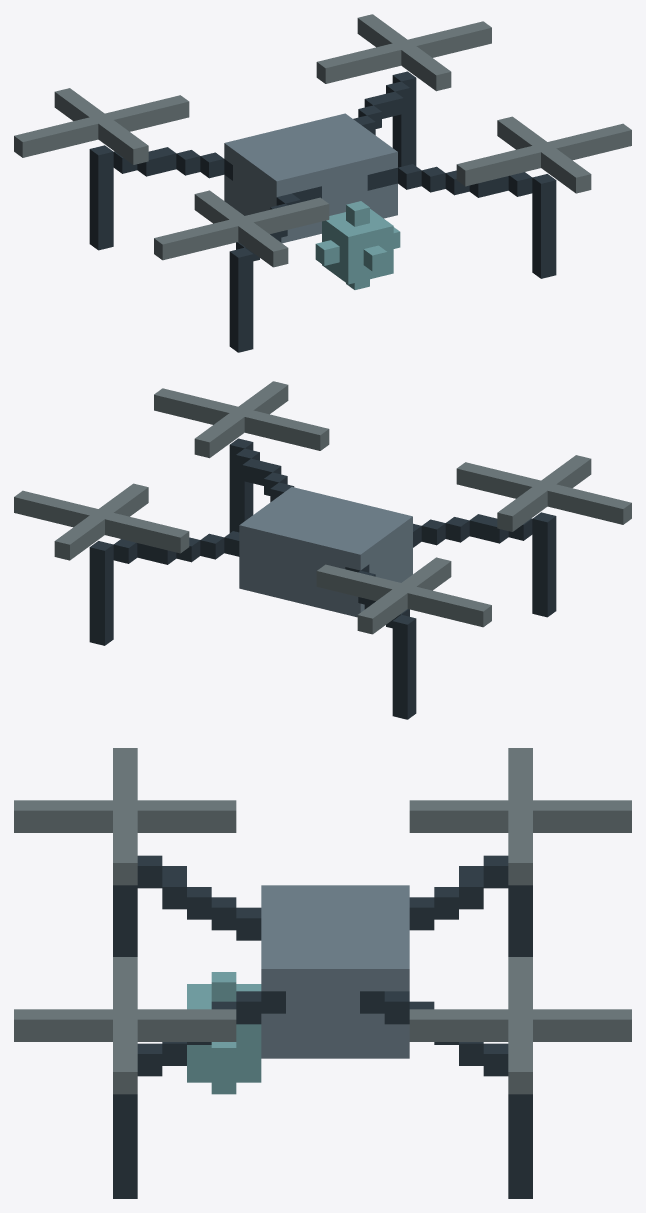
The model's file is film-19.glb.
The picture shows the model from 3 angles, top to bottom: view 1: azimuth 30°, elevation 25°; view 2: azimuth 150°, elevation 25°; view 3: azimuth 270°, elevation 25°; orthographic projection. The views are drawn at different scales.
Visible parts, largest first — view 1: Camera drone; view 2: Camera drone; view 3: Camera drone.
Part boxes in pixels (<box>): Camera drone: <box>14,14,631,352</box>; Camera drone: <box>14,381,631,719</box>; Camera drone: <box>14,748,631,1198</box>.
Size of the model in its own units: 2.48 by 0.64 by 2.
